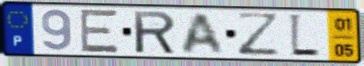9: (39, 7, 74, 53)
A: (180, 11, 227, 55)
E: (79, 8, 121, 55)
L: (288, 12, 322, 59)
R: (131, 9, 178, 56)
Z: (234, 11, 283, 58)
